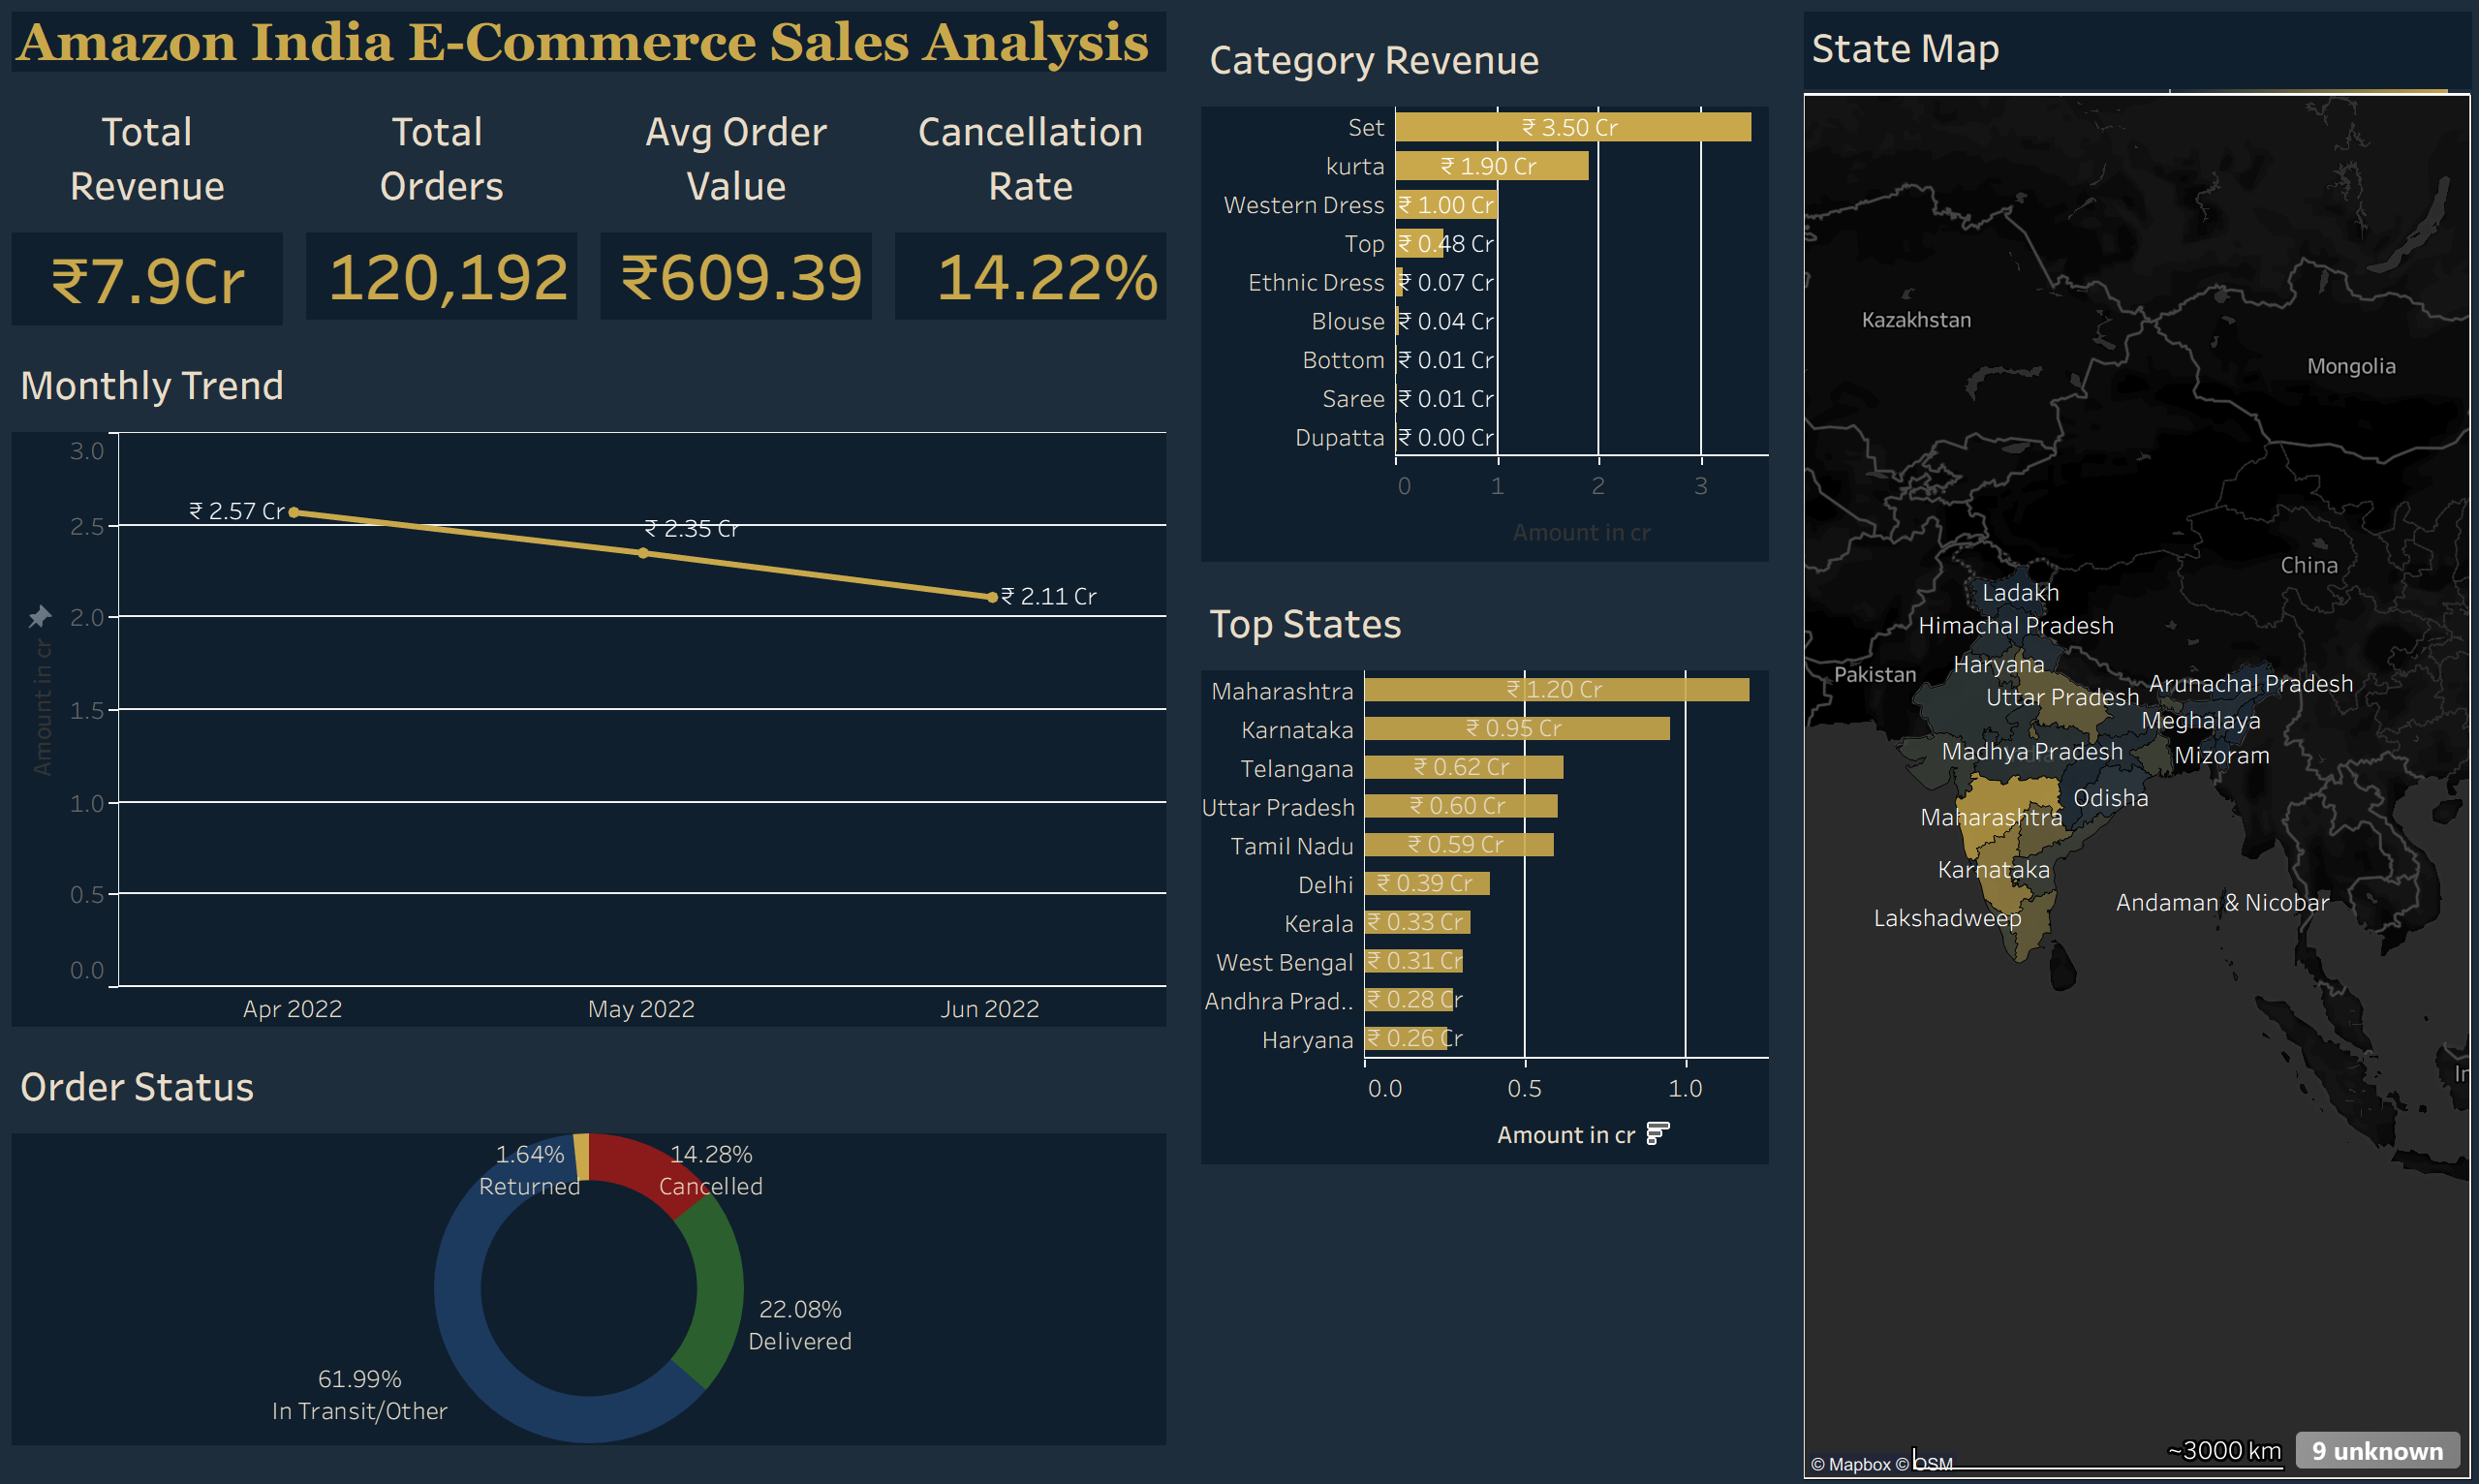

What the dashboard file says about the page in this screenshot:
{"tool":"tableau","page":{"name":"Dashboard 1","canvas":[1000,1000],"units":"permille","ordinal":0},"visuals":[{"type":"text","box":[0,0,484.9,69.8]},{"type":"worksheet","title":"State Map","mark":"Automatic","box":[716.8,0,284.7,1000]},{"type":"worksheet","title":"Category Revenue","mark":"Bar","rows":["category"],"cols":["Calculation_1686439033503748"],"box":[489.6,9.7,222.4,470.8]},{"type":"legend","title":"State Map","param":"[federated.074q04i1313rk2141gtob06i27oh].[usr:Calculation_1686439033503748:qk]","box":[866,13,127.6,105.5]},{"type":"worksheet","title":"Total Revenue","mark":"Text","box":[0,69.8,121.2,212.7]},{"type":"worksheet","title":"Total Orders","mark":"Automatic","box":[121.2,69.8,121.2,212.7]},{"type":"worksheet","title":"Avg Order Value","mark":"Automatic","box":[242.4,69.8,121.2,212.7]},{"type":"worksheet","title":"Cancellation Rate","mark":"Automatic","box":[363.6,69.8,121.2,212.7]},{"type":"legend","title":"Order Status","param":"[federated.074q04i1313rk2141gtob06i27oh].[none:status_group:nk]","box":[866,118.5,127.6,172.1]},{"type":"worksheet","title":"Monthly Trend","mark":"Line","rows":["Calculation_1686439033503748"],"cols":["month_name"],"box":[0,282.5,484.9,337.7]},{"type":"filter","title":"Category Revenue","param":"[federated.074q04i1313rk2141gtob06i27oh].[none:category:nk]","box":[866,290.6,127.6,360.4]},{"type":"worksheet","title":"Top States","mark":"Automatic","rows":["ship_state"],"cols":["Calculation_1686439033503748"],"box":[489.6,480.5,222.4,509.7]},{"type":"worksheet","title":"Order Status","mark":"Pie","cols":["Calculation_1686439153352710","Calculation_1686439153430536"],"box":[0,620.1,484.9,379.9]}]}

Visuals, with their boxes on the dashboard's canvas, which has no fixed pixel size, in thousandths of its width and height (x1, y1, x2, y2). These are canvas units, not pixel positions in the 2479x1484 screenshot, which may show the page scaled, cropped or inside an application window:
text: bbox=(0, 0, 485, 70)
"State Map" worksheet: bbox=(717, 0, 1002, 1000)
"Category Revenue" worksheet (Bar marks): bbox=(490, 10, 712, 480)
"State Map" legend: bbox=(866, 13, 994, 118)
"Total Revenue" worksheet (Text marks): bbox=(0, 70, 121, 282)
"Total Orders" worksheet: bbox=(121, 70, 242, 282)
"Avg Order Value" worksheet: bbox=(242, 70, 364, 282)
"Cancellation Rate" worksheet: bbox=(364, 70, 485, 282)
"Order Status" legend: bbox=(866, 118, 994, 291)
"Monthly Trend" worksheet (Line marks): bbox=(0, 282, 485, 620)
"Category Revenue" filter: bbox=(866, 291, 994, 651)
"Top States" worksheet: bbox=(490, 480, 712, 990)
"Order Status" worksheet (Pie marks): bbox=(0, 620, 485, 1000)
